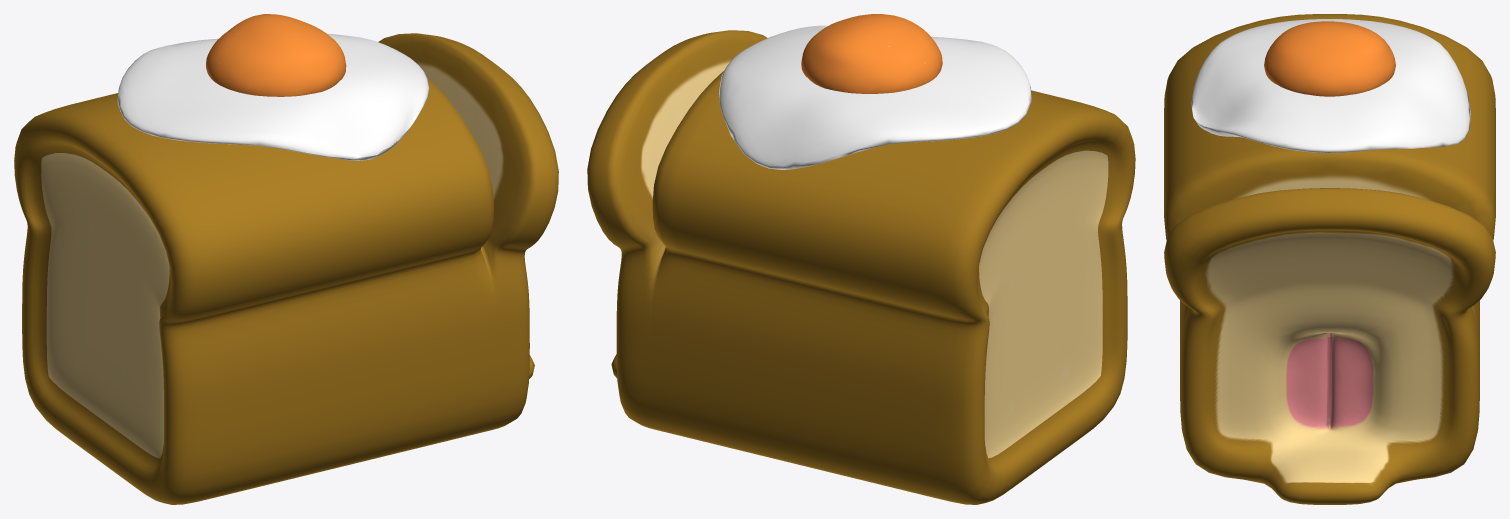
File: Bread2.fbx
3 views of the same model, side by side, from view 1: azimuth 30°, elevation 25°; view 2: azimuth 150°, elevation 25°; view 3: azimuth 270°, elevation 25° (orthographic). The views are drawn at different scales.
Parts seen in each view (by area): view 1: Cube, Icosphere, Icosphere.001; view 2: Cube, Icosphere, Icosphere.001; view 3: Cube, Icosphere, Icosphere.001.
Boxes of the visible parts, x1,y1,x2,y2 form: Cube: (14,33,558,504); Icosphere: (117,34,428,160); Icosphere.001: (206,14,346,96); Cube: (587,30,1135,504); Icosphere: (719,25,1031,169); Icosphere.001: (801,14,942,93); Cube: (1164,14,1495,504); Icosphere: (1191,19,1470,152); Icosphere.001: (1264,21,1395,96).
Bounding box in the file's own units: 306 × 276 × 221.
Materials: 1 (1 with a texture image).
